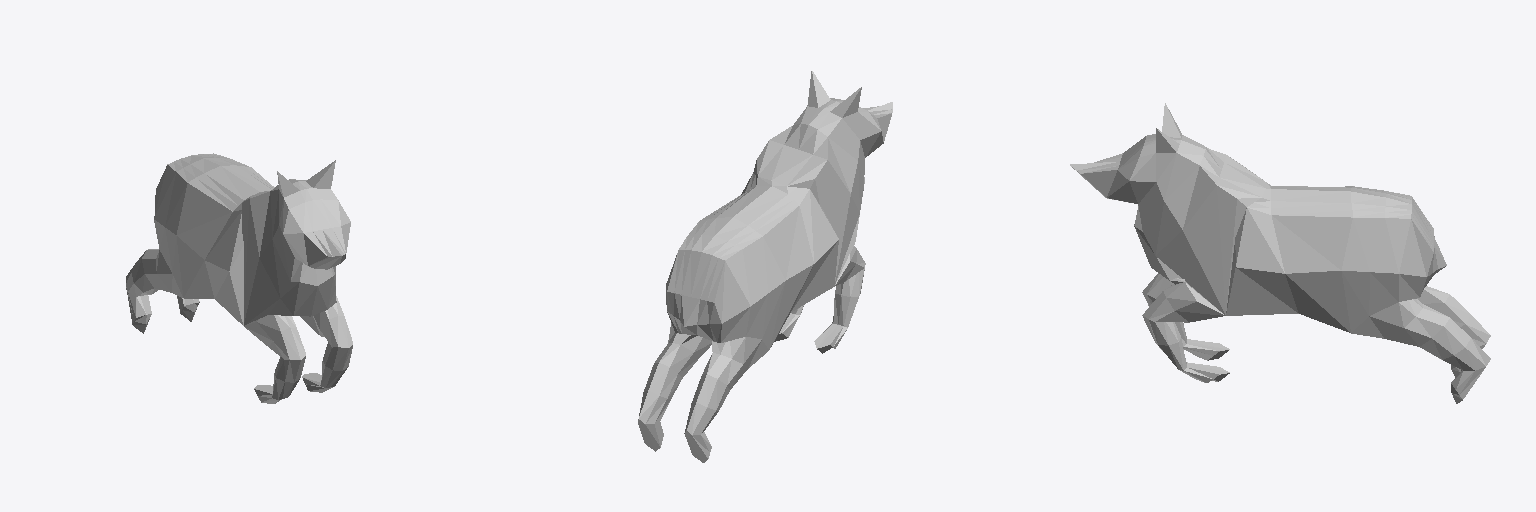
The model's file is piesblendtex_000012.obj.
The picture shows the model from 3 angles: view 1: azimuth 30°, elevation 25°; view 2: azimuth 150°, elevation 25°; view 3: azimuth 270°, elevation 25°; orthographic projection.
Parts seen in each view (by area): view 1: Cube; view 2: Cube; view 3: Cube.
Boxes of the visible parts, box(x1,y1,x2,y2) form: Cube: box(126, 153, 352, 403); Cube: box(638, 71, 892, 462); Cube: box(1070, 103, 1490, 403).
Bounding box in the file's own units: 2.56 × 6.85 × 9.57.